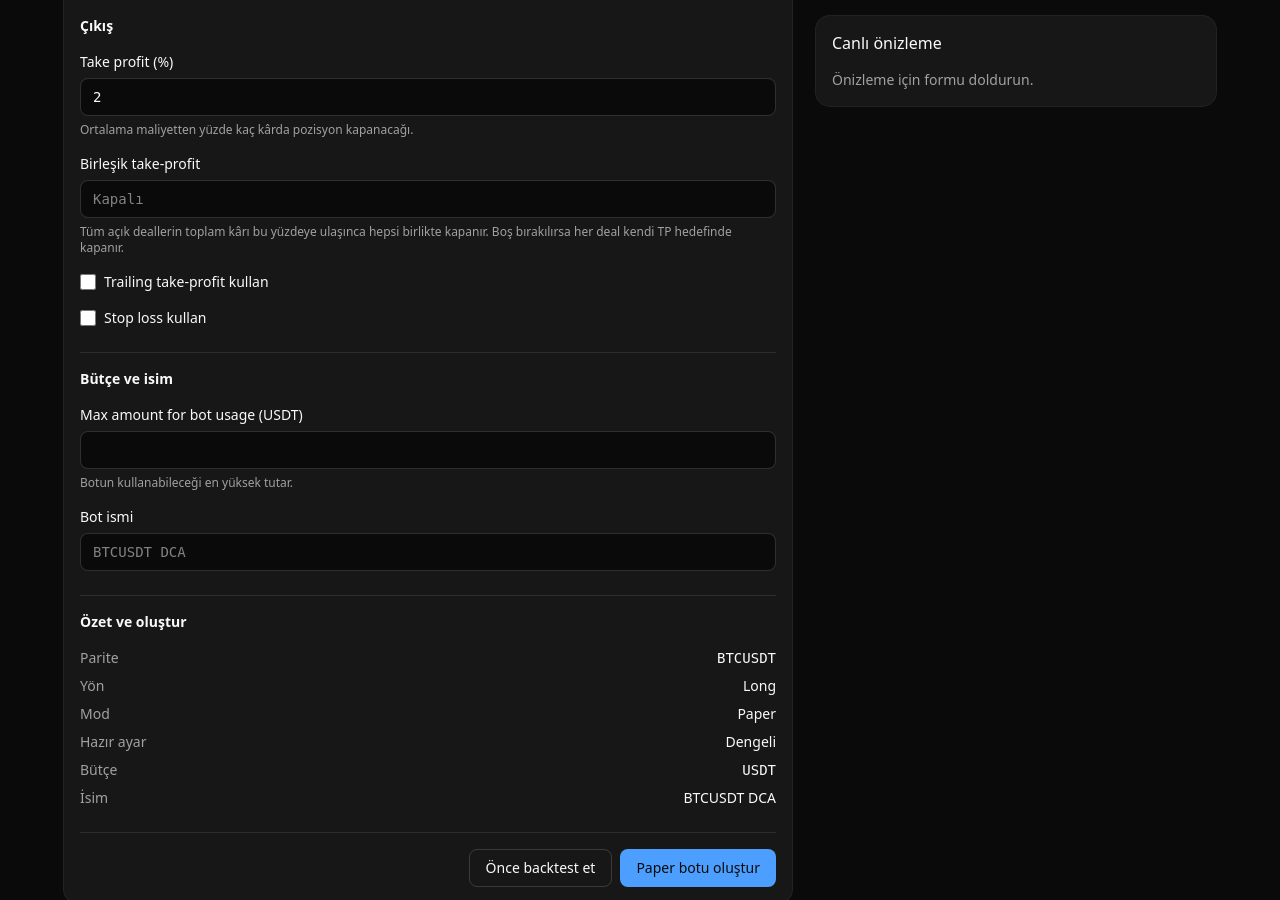
it: kurulum formu (kayıtlı yanıtlar) › Gereken tutarı kullan: metin aynen kopyalanır
The width and height of the screenshot is (1280, 900).
(page scrolled)
In the field with test id "wizard-budget": (428, 450) [80, 431, 776, 469], type "10"
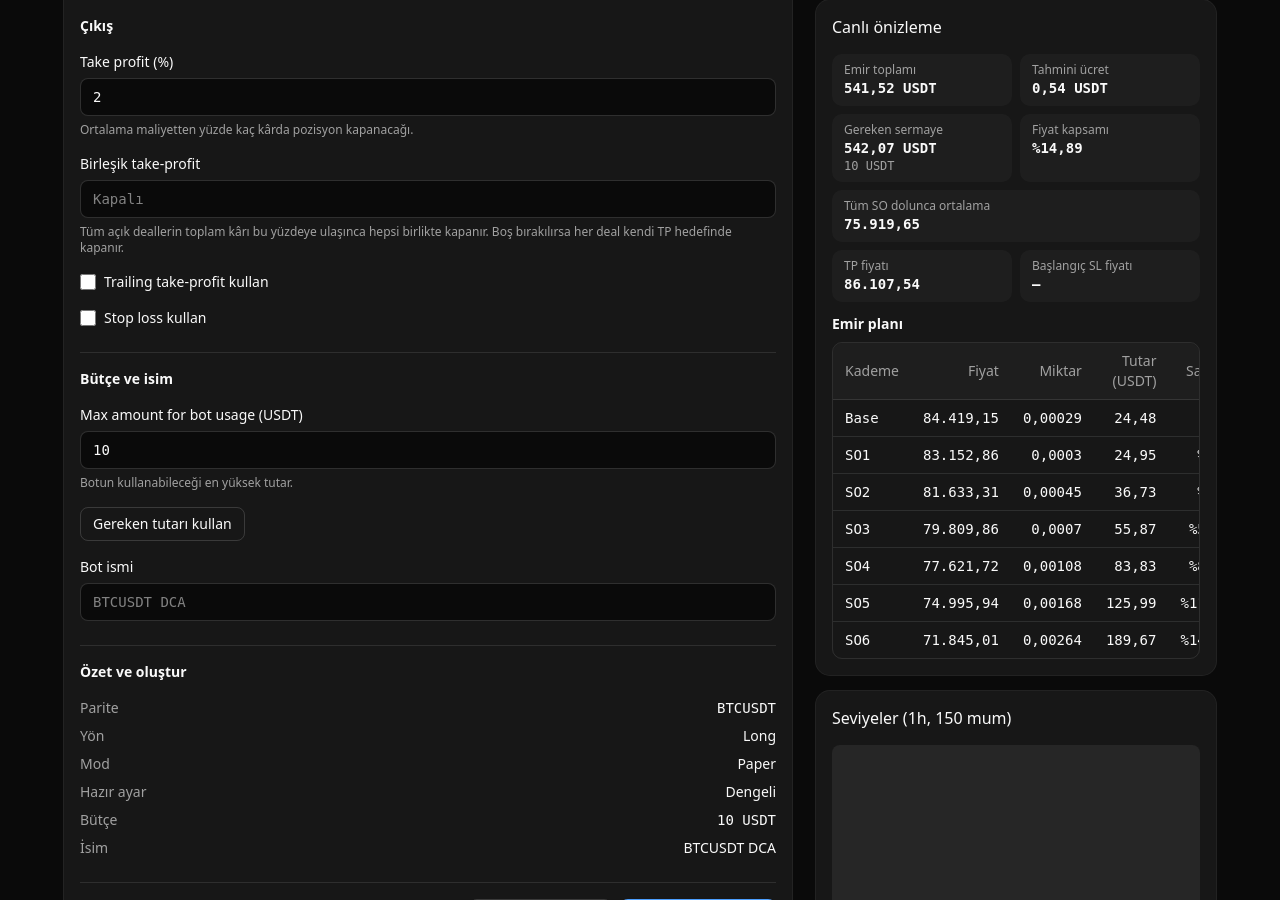
Click the button "Gereken tutarı kullan": (162, 524) [80, 507, 245, 541]
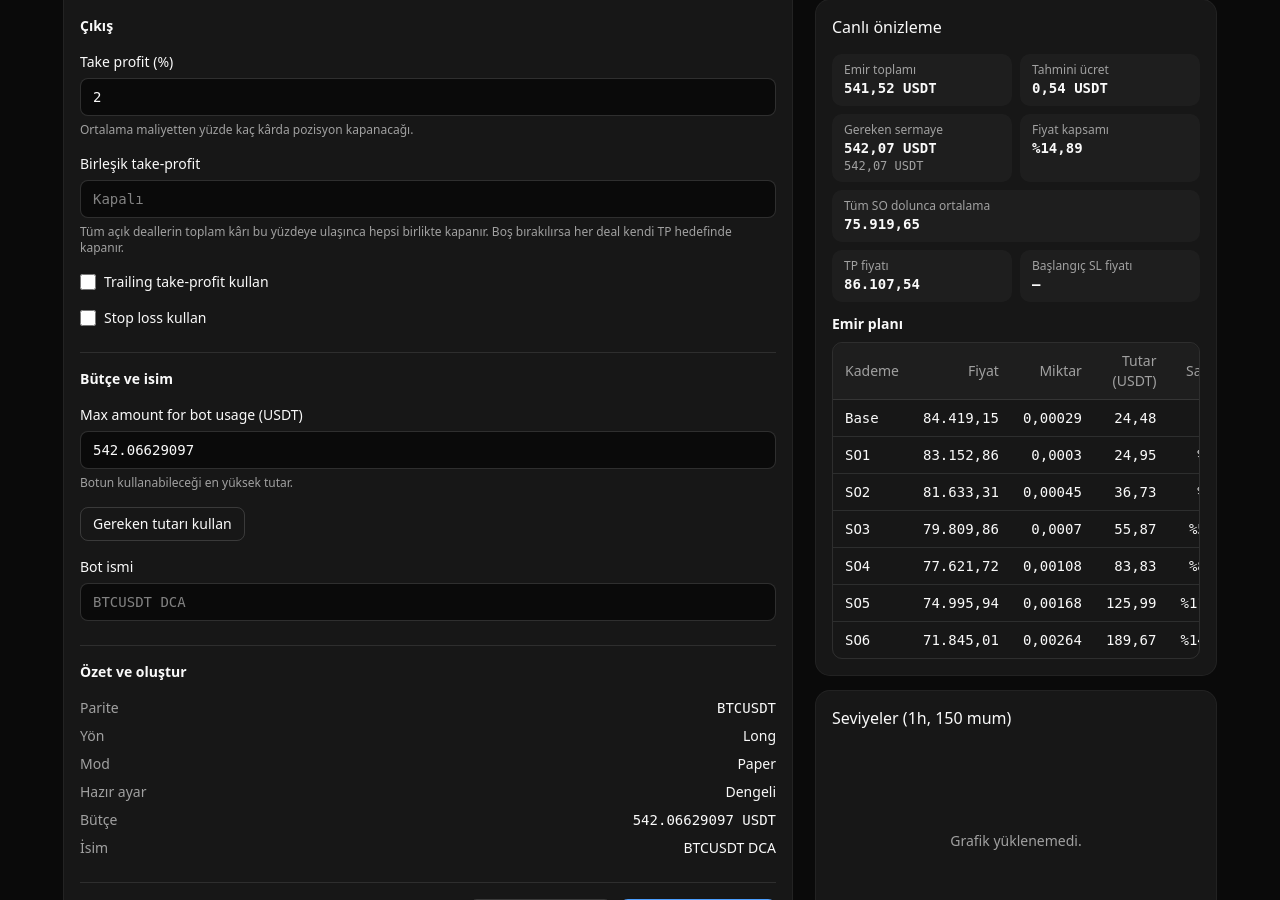
Now the field with test id "wizard-budget" holds "542.06629097", box [80, 431, 776, 469]
